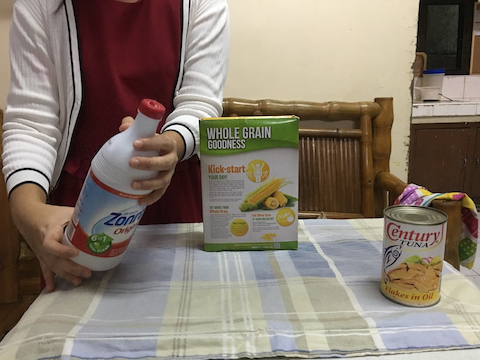bottle: (63, 97, 167, 272)
box: (195, 110, 304, 257)
can: (378, 202, 452, 309)
grab: (127, 131, 182, 212)
